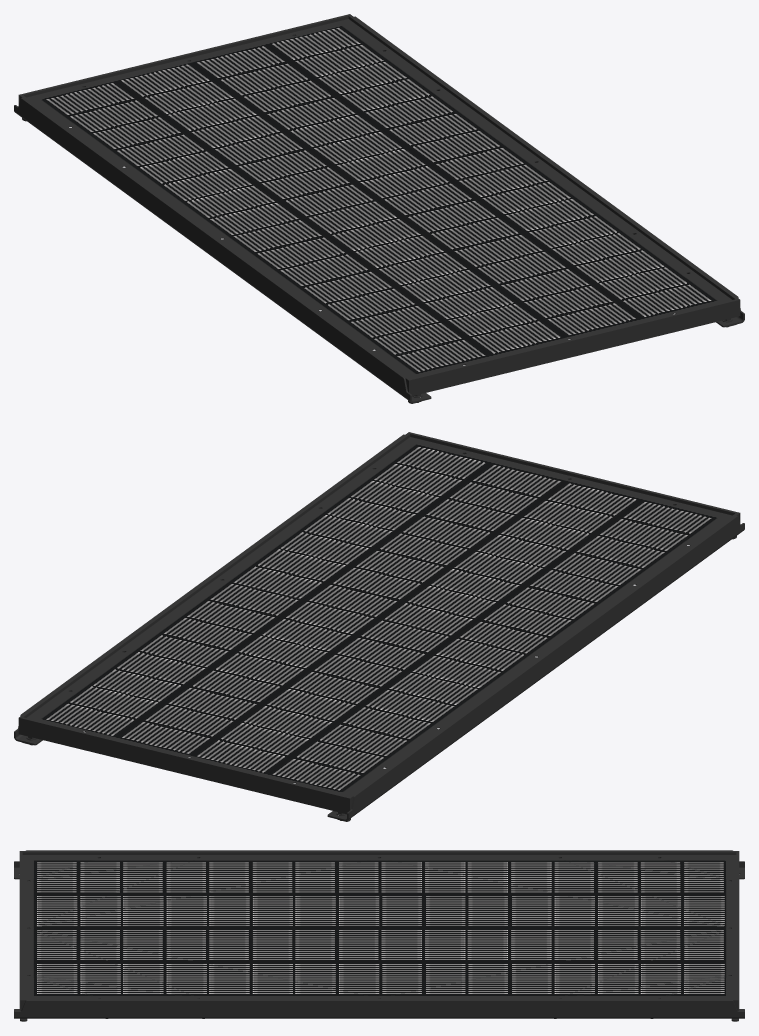
The picture shows the model from 3 angles, top to bottom: view 1: azimuth 30°, elevation 25°; view 2: azimuth 150°, elevation 25°; view 3: azimuth 270°, elevation 25°; orthographic projection. The views are drawn at different scales.
Visible parts, largest first — view 1: solar250; view 2: solar250; view 3: solar250.
Boxes of the visible parts, x1,y1,x2,y2 form: solar250: (14,14,744,403); solar250: (14,432,744,821); solar250: (14,850,744,1021).
Size of the model in its own units: 0.7586 by 0.0564 by 1.56.
Materials: 1 (1 with a texture image).
